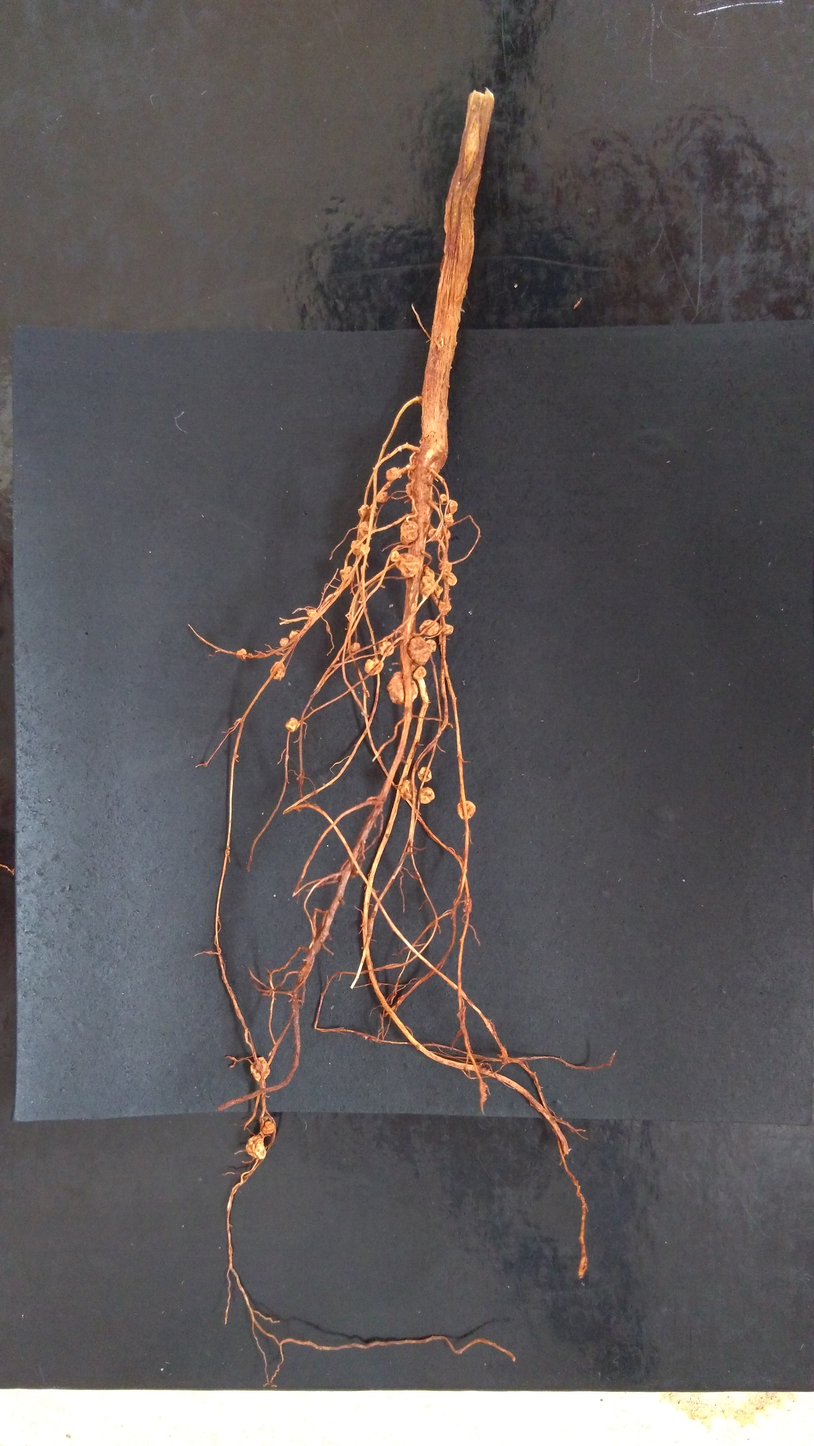nodule: (387, 670, 419, 704), (407, 636, 432, 666), (395, 552, 421, 578), (250, 1056, 271, 1082), (246, 1134, 266, 1159), (400, 520, 419, 545), (364, 657, 385, 675), (456, 801, 476, 819), (399, 779, 417, 799), (419, 620, 442, 635), (419, 575, 435, 596), (269, 662, 285, 680), (419, 787, 435, 804), (378, 640, 394, 657), (417, 766, 432, 783), (285, 717, 301, 732), (339, 566, 355, 581), (358, 520, 373, 536), (358, 504, 374, 519), (438, 600, 452, 616), (438, 560, 452, 575), (439, 623, 454, 637), (261, 1120, 276, 1134), (385, 467, 401, 480), (422, 564, 435, 579), (351, 540, 364, 555), (413, 666, 427, 679), (439, 527, 451, 542), (434, 582, 444, 599), (447, 499, 458, 514), (428, 529, 441, 541), (446, 572, 457, 586), (375, 492, 389, 503), (236, 648, 247, 661), (410, 660, 420, 674), (426, 639, 436, 652), (444, 513, 454, 525), (390, 550, 400, 562), (360, 544, 370, 555), (350, 642, 360, 652), (439, 493, 448, 504), (405, 484, 413, 496), (280, 637, 289, 647), (289, 630, 299, 639), (307, 609, 317, 617), (373, 510, 378, 517), (248, 652, 253, 658), (348, 615, 352, 621)
